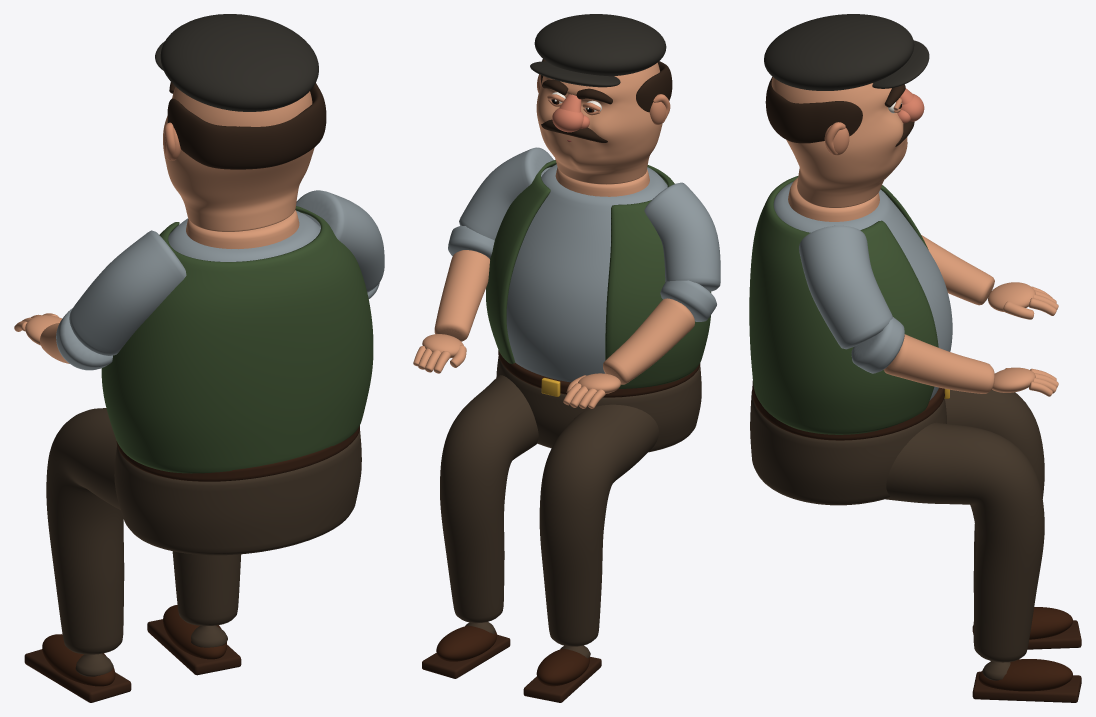
Rendered from temel.glb.
The picture shows the model from 3 angles, left to right: view 1: azimuth 30°, elevation 25°; view 2: azimuth 150°, elevation 25°; view 3: azimuth 270°, elevation 25°; orthographic projection. The views are drawn at different scales.
Visible parts, largest first — view 1: Waistcoat, PelvisPants.001, FullLegL.001, CapCrown, FaceSkull.001, RolledSleeveL, HairHorseshoe.001, FullLegR.001, RolledSleeveR, ShirtBody, LeatherBelt, ChestNeckBase.001 (+7 smaller); view 2: ShirtBody, FullLegL.001, FullLegR.001, Waistcoat, FaceSkull.001, CapCrown, PelvisPants.001, RolledSleeveL, RolledSleeveR, ForearmL.001, ForearmR.001, ShoeUpperR (+13 smaller); view 3: Waistcoat, FullLegR.001, PelvisPants.001, CapCrown, FaceSkull.001, RolledSleeveR, ShirtBody, FullLegL.001, ForearmR.001, HairHorseshoe.001, ForearmL.001, ShoeUpperR (+9 smaller).
Boxes of the visible parts, box(x1,y1,x2,y2) form: Waistcoat: box(101, 206, 373, 473); PelvisPants.001: box(114, 430, 361, 555); FullLegL.001: box(46, 408, 124, 654); CapCrown: box(160, 14, 318, 111); FaceSkull.001: box(163, 87, 314, 231); RolledSleeveL: box(69, 230, 186, 355); HairHorseshoe.001: box(167, 83, 326, 169); FullLegR.001: box(172, 551, 241, 626); RolledSleeveR: box(296, 190, 384, 292); ShirtBody: box(168, 210, 320, 261); LeatherBelt: box(116, 425, 359, 481); ChestNeckBase.001: box(186, 210, 299, 249); ShirtBody: box(506, 164, 667, 382); FullLegL.001: box(539, 404, 658, 646); FullLegR.001: box(440, 375, 538, 623); Waistcoat: box(486, 160, 711, 388); FaceSkull.001: box(536, 62, 662, 184); CapCrown: box(534, 14, 666, 76); PelvisPants.001: box(496, 356, 701, 452); RolledSleeveL: box(644, 182, 720, 291); RolledSleeveR: box(459, 147, 553, 240); ForearmL.001: box(603, 298, 694, 384); ForearmR.001: box(434, 250, 489, 341); ShoeUpperR: box(436, 625, 497, 661); Waistcoat: box(749, 176, 938, 434); FullLegR.001: box(885, 422, 1044, 662); PelvisPants.001: box(750, 390, 946, 505); CapCrown: box(764, 14, 914, 90); FaceSkull.001: box(771, 77, 907, 207); RolledSleeveR: box(799, 225, 892, 349); ShirtBody: box(773, 181, 952, 400); FullLegL.001: box(945, 389, 1044, 592); ForearmR.001: box(883, 334, 994, 393); HairHorseshoe.001: box(765, 77, 862, 143); ForearmL.001: box(921, 235, 994, 305); ShoeUpperR: box(978, 659, 1072, 691).
Size of the model in its own units: 0.6736 by 1.43 by 0.6765.
